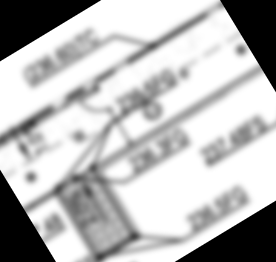door: (78, 87, 113, 122)
